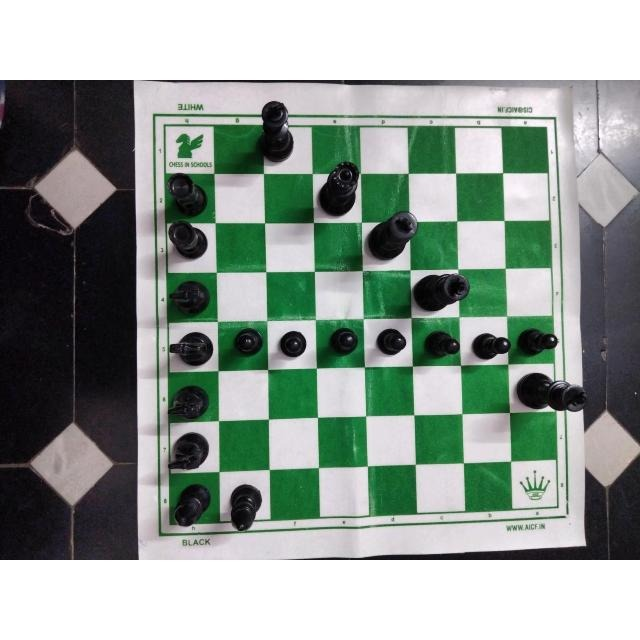black-bishop: (168, 477, 212, 527), (225, 479, 264, 535)
black-king: (514, 368, 589, 422), (255, 96, 301, 165), (368, 208, 420, 268), (410, 271, 471, 313)
black-knight: (165, 328, 217, 370), (167, 274, 215, 316), (165, 428, 209, 471), (166, 382, 214, 421)
black-pawn: (420, 324, 464, 365), (470, 325, 510, 363), (517, 325, 563, 358), (232, 322, 266, 358), (374, 324, 410, 358), (277, 326, 311, 361), (326, 324, 361, 358)
black-queen: (318, 159, 362, 216)
black-rook: (164, 169, 211, 217), (164, 219, 212, 258)
